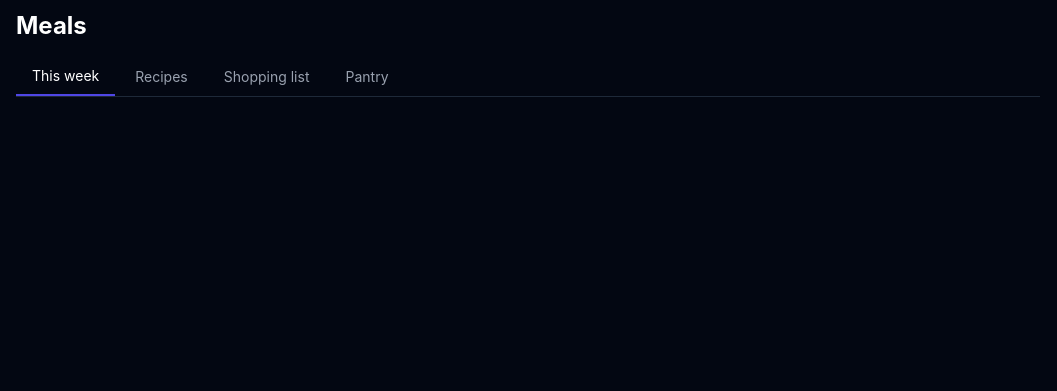
Test: Scan a list › viewers have no scan button
What coordinates should you click on to do the following:
click the tab "Shopping list"
I would click on:
 (267, 77)
Its box is x1=208 y1=58 x2=326 y2=96.
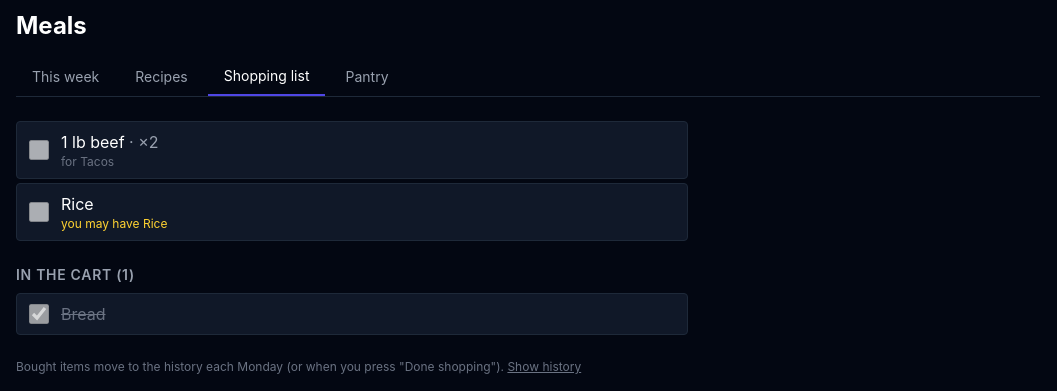
Expected: the heading "In the cart (1)" is shown, x1=16 y1=265 x2=135 y2=285
